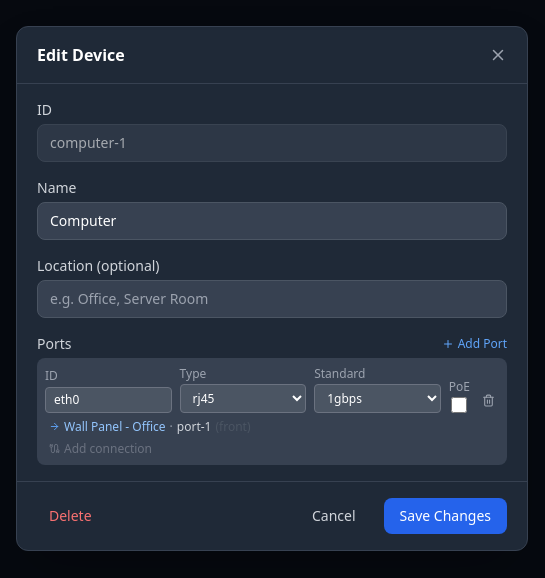
Test: EntityForm — delete › shows a confirmation prompt when Delete is clicked
Click the button "Delete" at (70, 516), box x1=37 y1=498 x2=104 y2=534
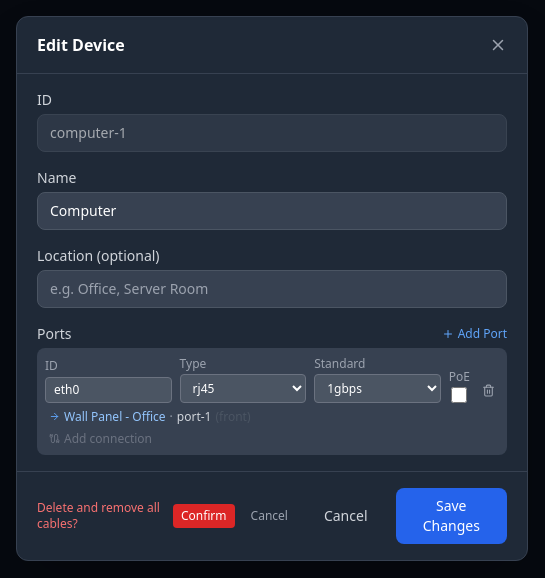
Check: the text "Delete and remove all cables?" is shown, box x1=37 y1=500 x2=165 y2=532
Check: the button "Confirm" is shown, box x1=173 y1=504 x2=235 y2=528
